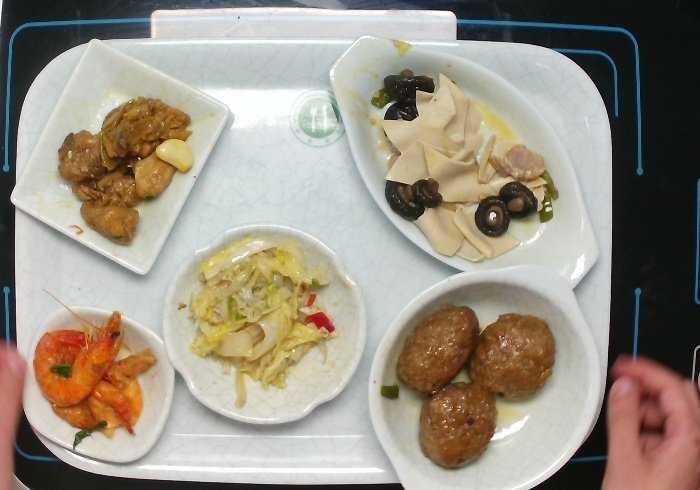JYsf-Ao_Yuan_Wan: (159, 219, 370, 433)
JYsf-Shuang_Er_Wan: (366, 259, 603, 489)
JYsf-Si_Fang_Die: (22, 297, 182, 468)
JYsf-Yu_Pan: (320, 33, 603, 300)
WCQzf-Ru_Ci_Si_Fang_Die: (8, 34, 233, 279)
